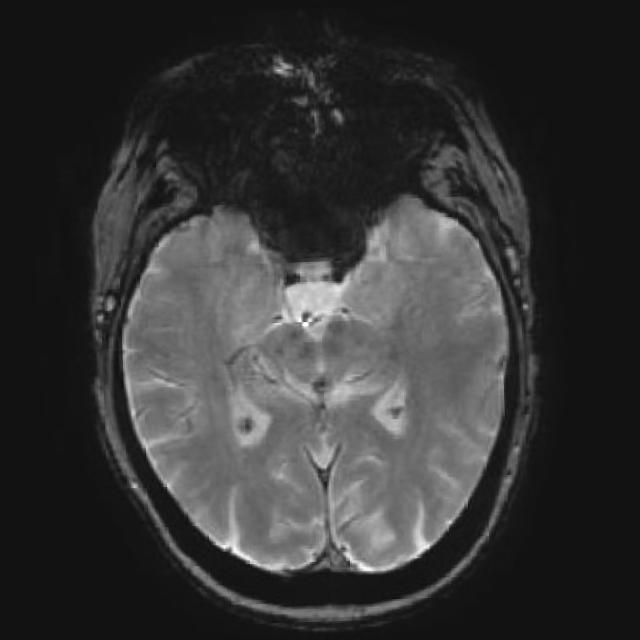MCI: (353, 354, 428, 458), (207, 364, 284, 448)
